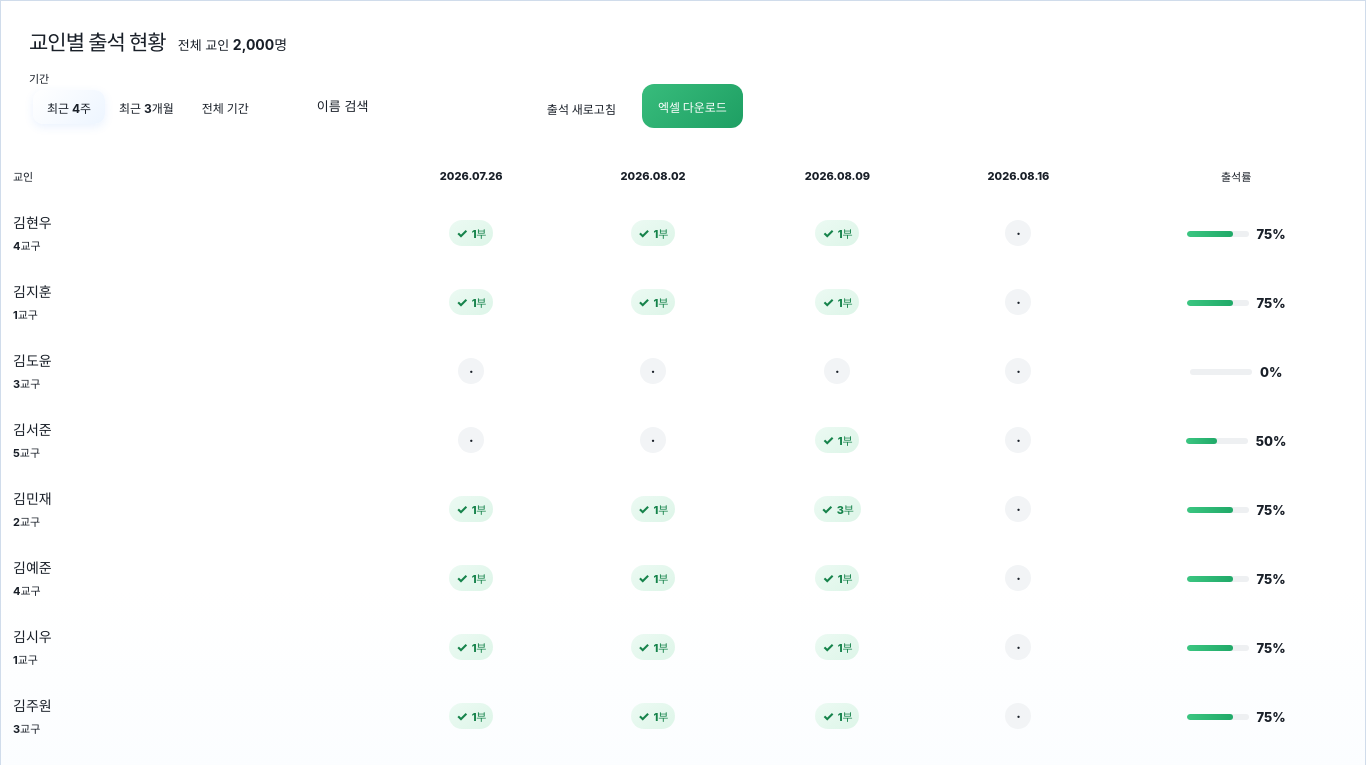
it: AttendanceManagement › opens a member detail modal with attendance and profile information
Click the button with class "attendance-member-button" showing "김현우 4교구": (93, 233) [13,212,173,253]
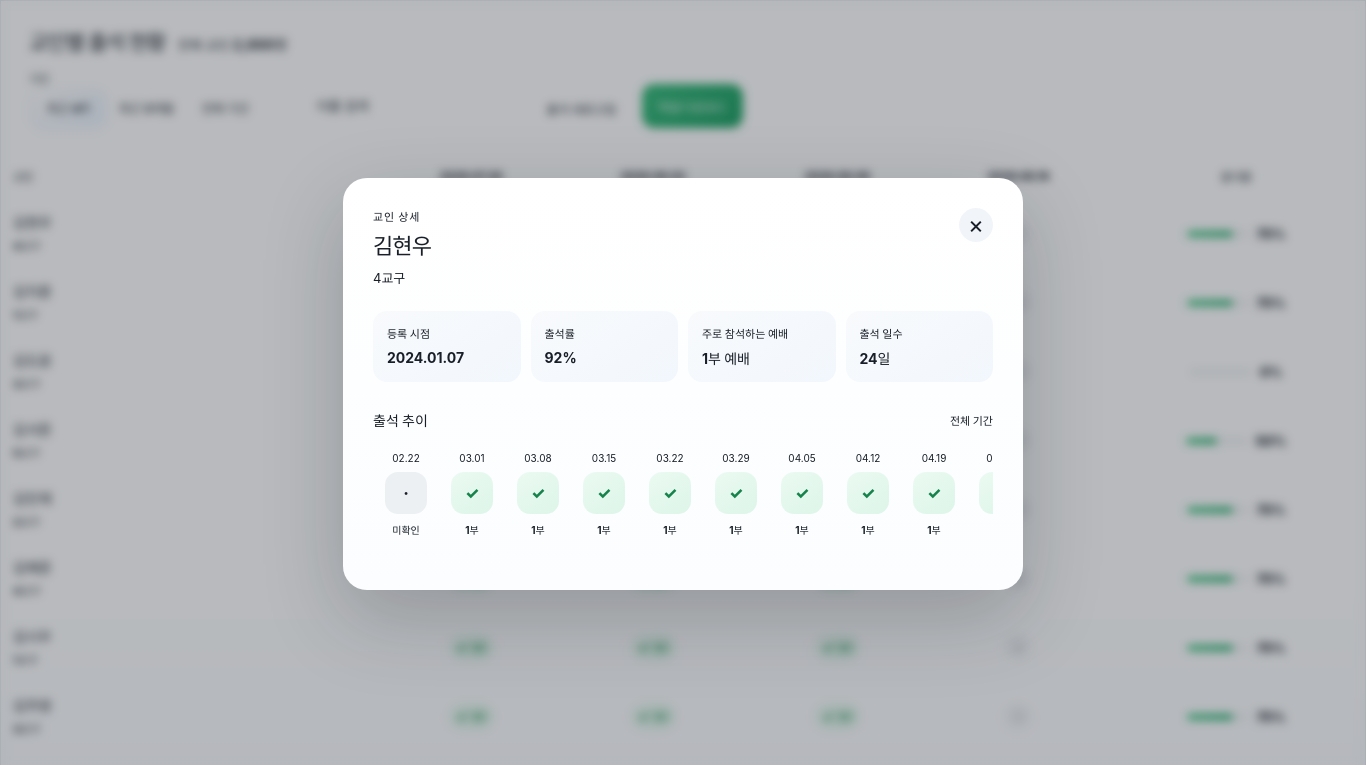
Check: the dialog is shown, box [343,178,1023,590]
Check: the dialog shows "교인 상세", box [373,210,420,224]
Check: the dialog shows "등록 시점", box [387,327,430,341]
Click the button named "상세 정보 닫기": (976, 225) [959,208,993,242]
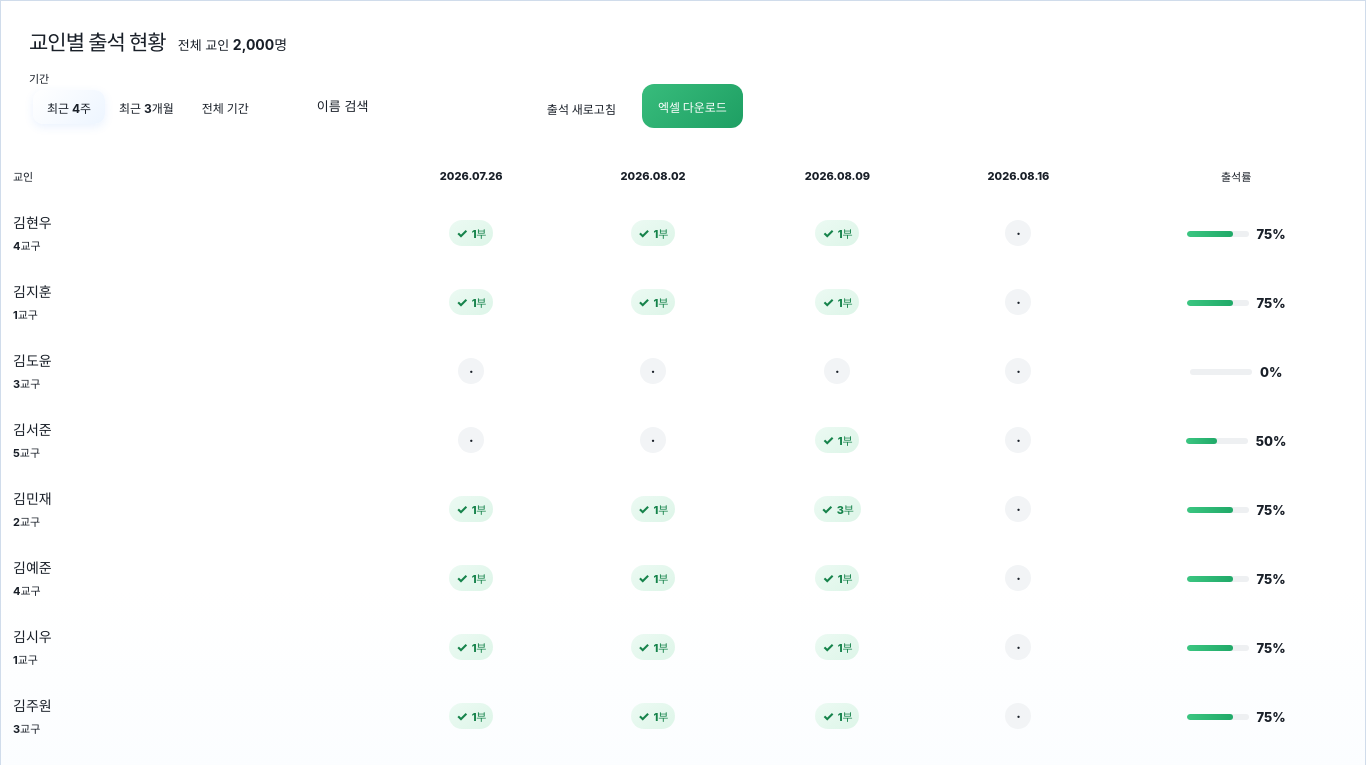
Check: the dialog is gone
